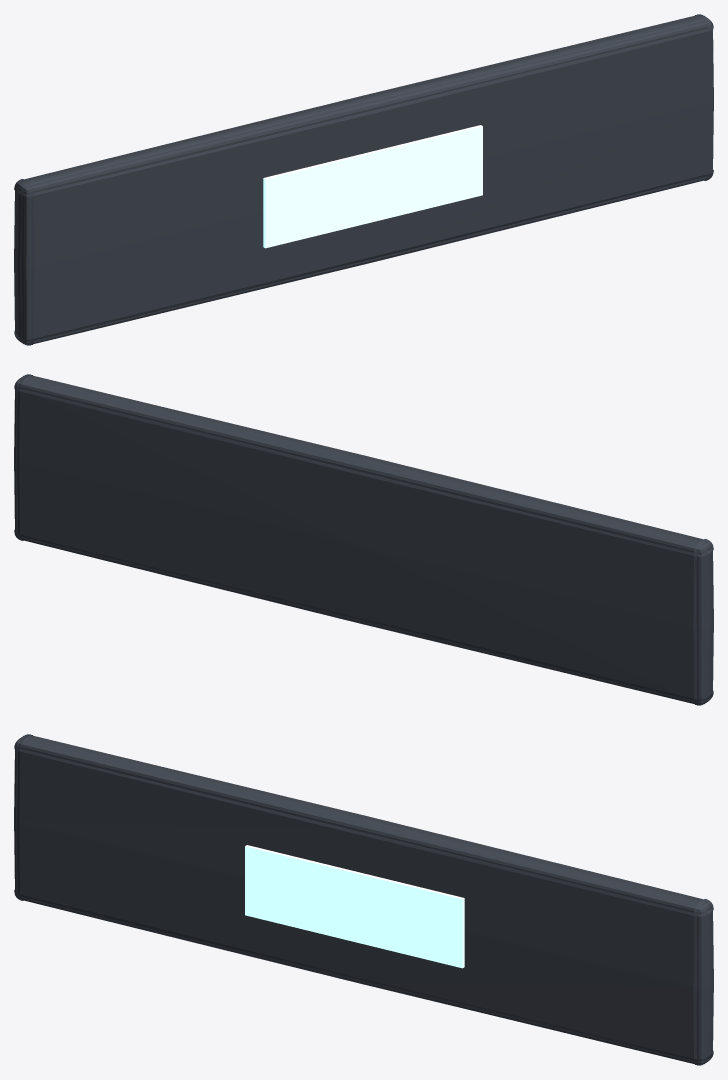
Rendered from 28_PS_Table_FrontStatusAndBrandPlate.glb.
The picture shows the model from 3 angles, top to bottom: view 1: azimuth 30°, elevation 25°; view 2: azimuth 150°, elevation 25°; view 3: azimuth 330°, elevation 25°; orthographic projection.
Parts seen in each view (by area): view 1: PS_Table_FrontStatusAndBrandPlate; view 2: PS_Table_FrontStatusAndBrandPlate; view 3: PS_Table_FrontStatusAndBrandPlate.
Boxes of the visible parts, <box> form: PS_Table_FrontStatusAndBrandPlate: <box>14,14,713,345</box>; PS_Table_FrontStatusAndBrandPlate: <box>14,374,713,705</box>; PS_Table_FrontStatusAndBrandPlate: <box>14,734,713,1065</box>.
Size of the model in its own units: 2.1 by 0.47 by 0.093.
